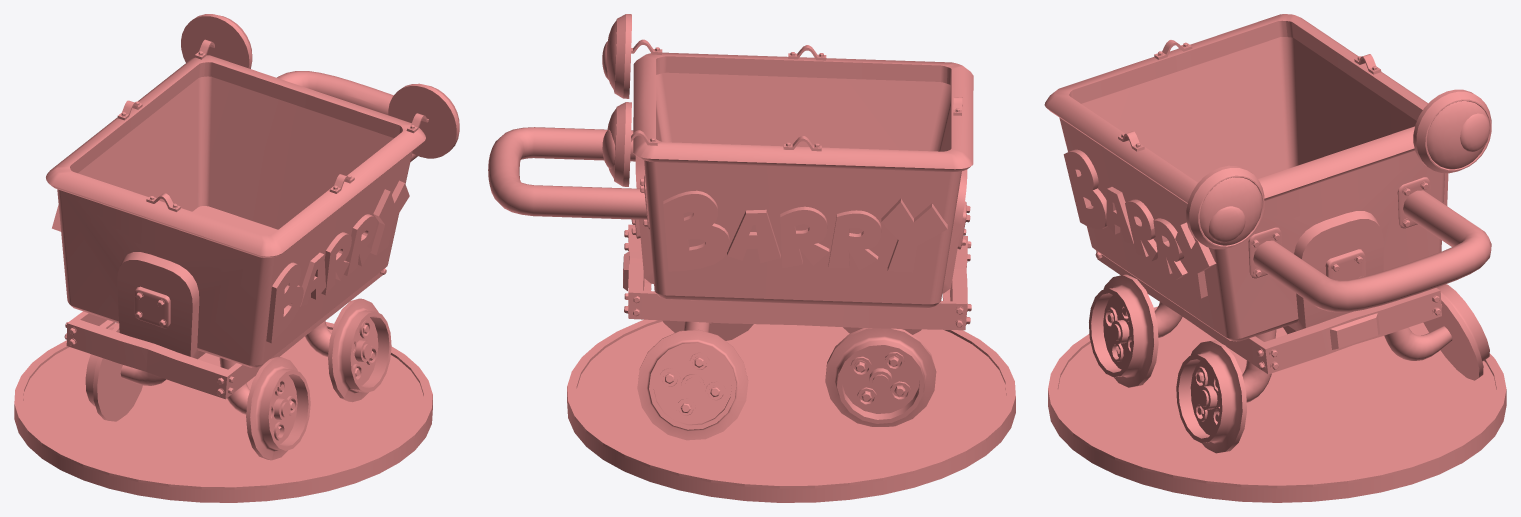
File: statue berry model.fbx
The picture shows the model from 3 angles, left to right: view 1: azimuth 30°, elevation 25°; view 2: azimuth 150°, elevation 25°; view 3: azimuth 270°, elevation 25°; orthographic projection. The views are drawn at different scales.
Parts seen in each view (by area): view 1: trophy_barry; view 2: trophy_barry; view 3: trophy_barry.
Boxes of the visible parts, box(x1,y1,x2,y2) form: trophy_barry: box(14, 14, 459, 502); trophy_barry: box(488, 14, 1015, 502); trophy_barry: box(1044, 14, 1506, 502).
Size of the model in its own units: 66.04 by 48.22 by 57.2.
